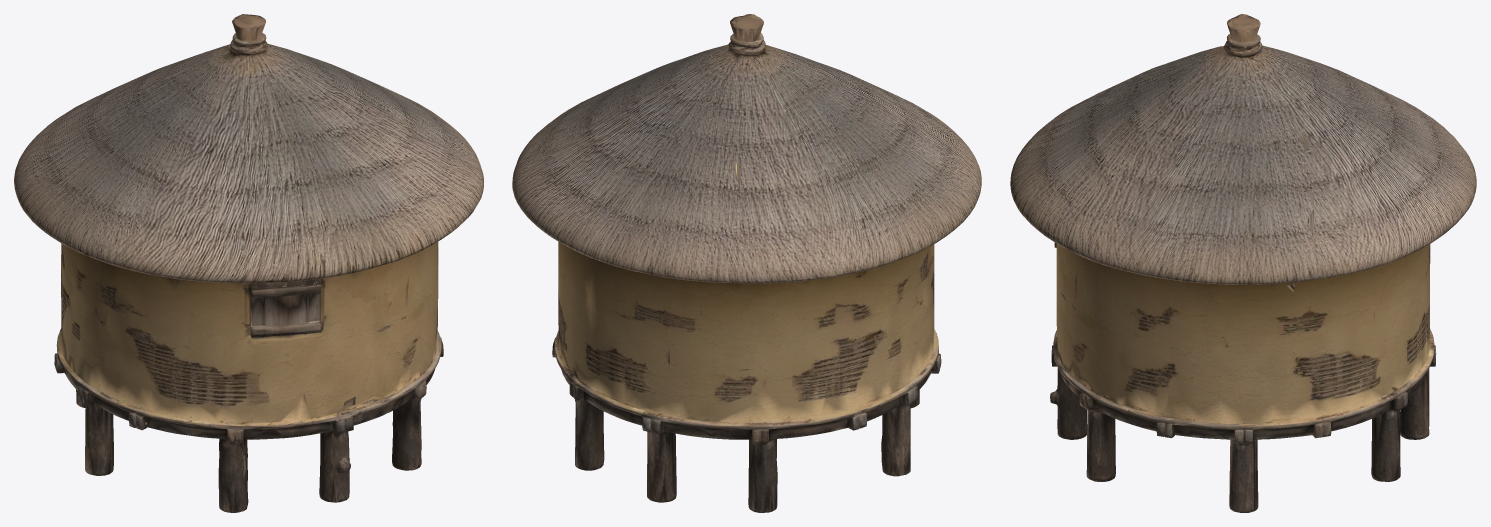
The model's file is granary_a_lod0.glb.
The picture shows the model from 3 angles, left to right: view 1: azimuth 30°, elevation 25°; view 2: azimuth 150°, elevation 25°; view 3: azimuth 270°, elevation 25°; orthographic projection.
Parts seen in each view (by area): view 1: node_0; view 2: node_0; view 3: node_0.
Boxes of the visible parts, left/top/right/bottom form: node_0: left=14, top=14, right=483, bottom=512; node_0: left=512, top=14, right=981, bottom=512; node_0: left=1010, top=14, right=1476, bottom=512.
Bounding box in the file's own units: 4.1 × 3.99 × 4.09.
1 material, 1 textured.
